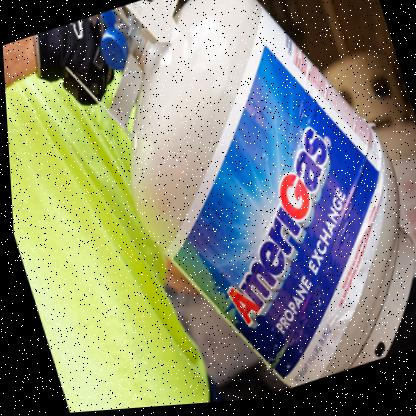gas-tank: (29, 0, 415, 414)
